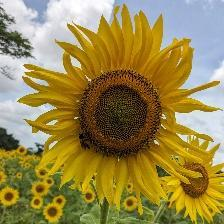sunflower: (30, 28, 196, 189)
